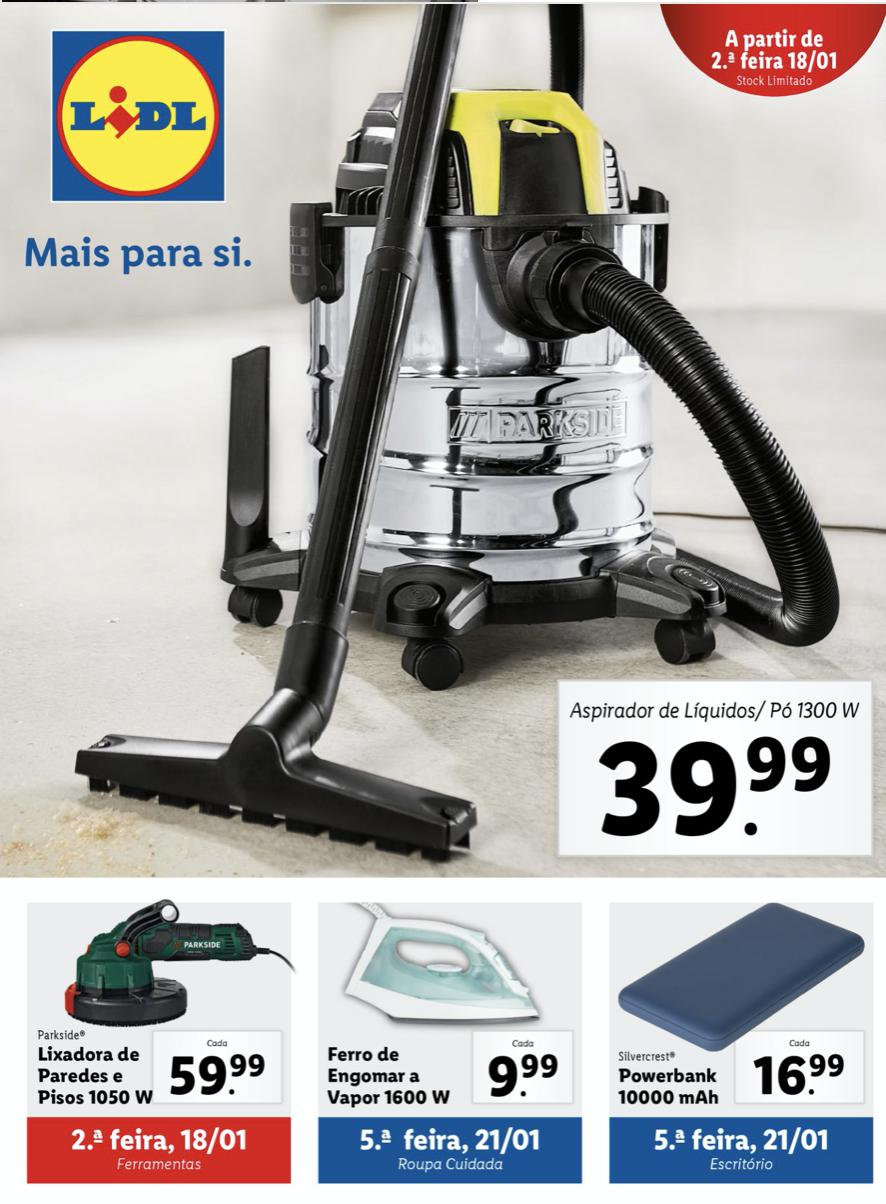name: (33, 1042, 157, 1106), (326, 1045, 456, 1106), (614, 1062, 724, 1112)
price: (596, 730, 829, 845), (751, 1045, 851, 1103), (163, 1047, 269, 1099), (487, 1054, 565, 1103)
product: (214, 36, 881, 877), (17, 893, 296, 1118), (312, 899, 586, 1118), (608, 903, 886, 1115)
